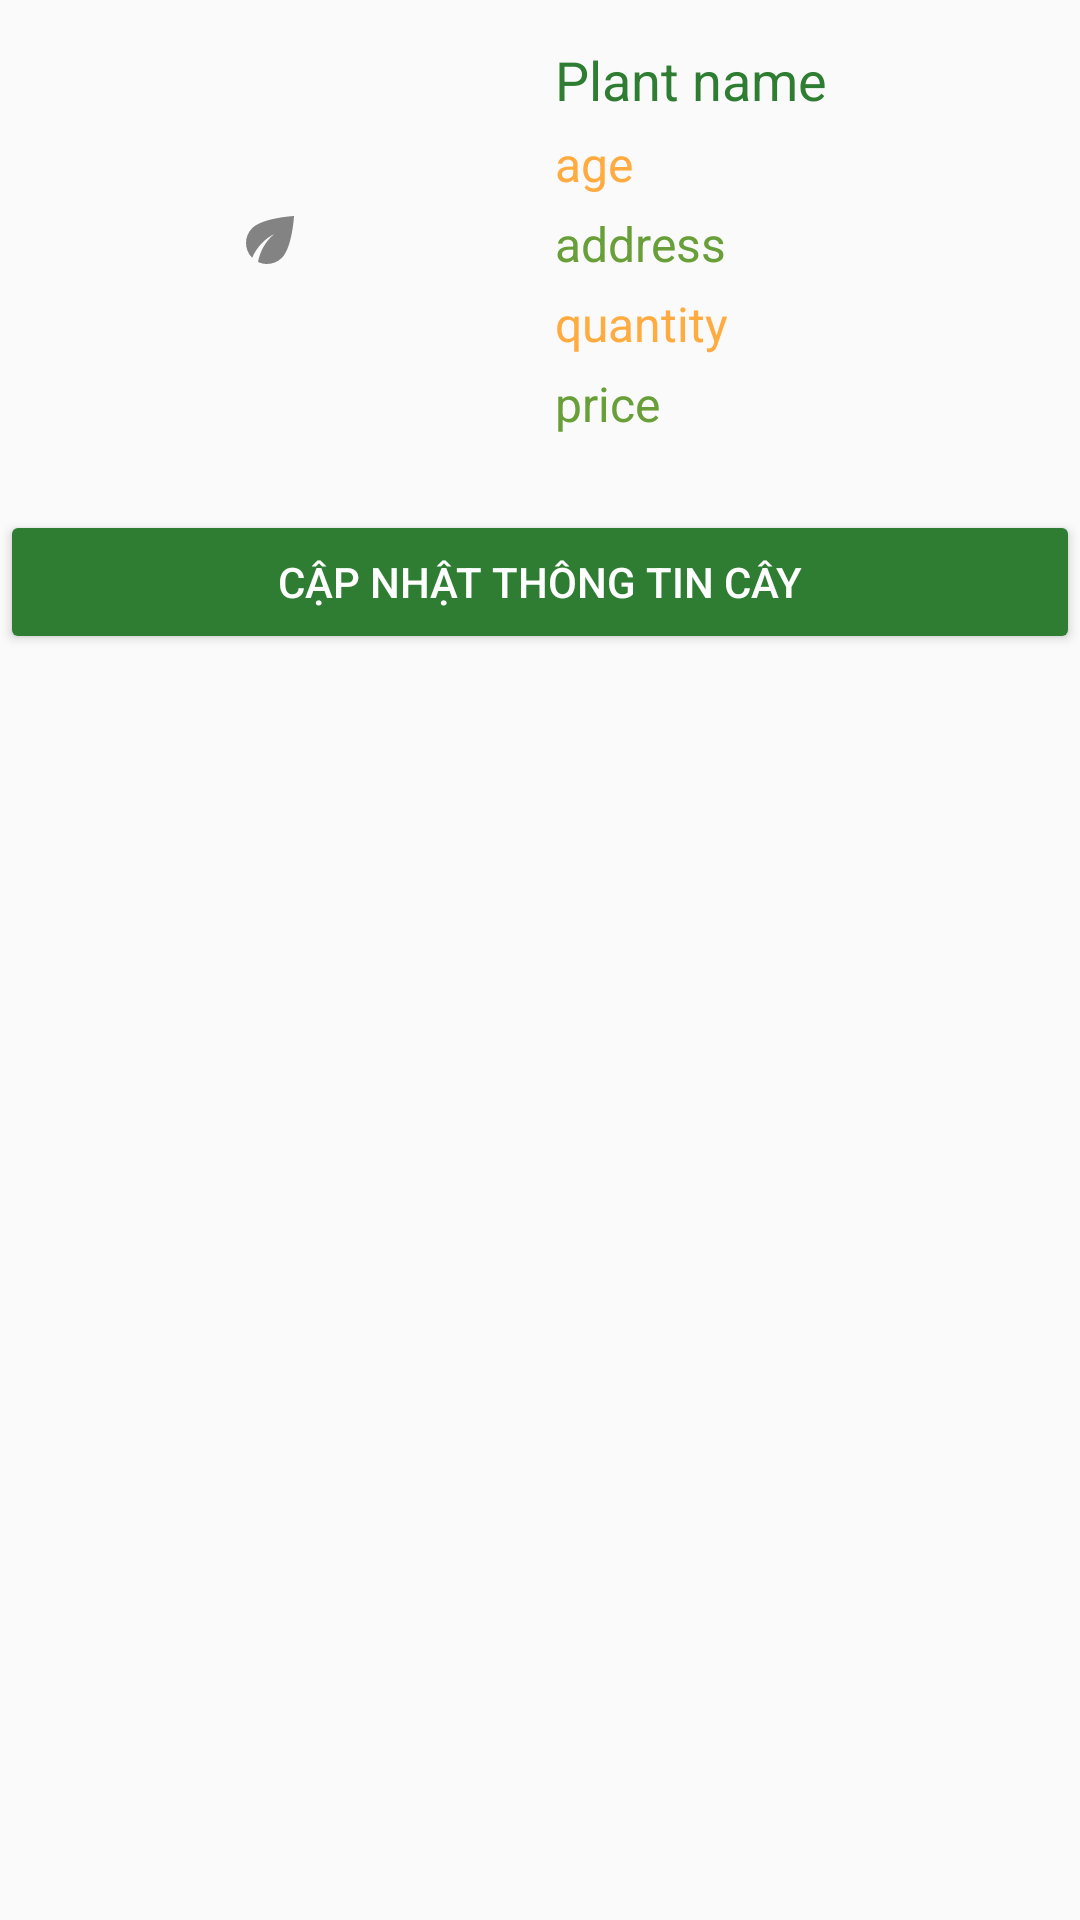

Locate icon controls on the screen. Image size 1080px×1920px, boxes as box=[x1, y1, x2, y2].
leaf: box=[246, 216, 294, 264]
